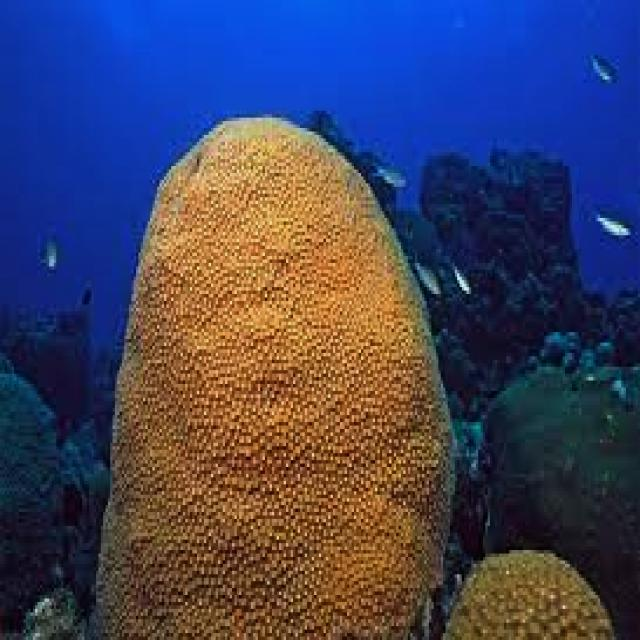Coral: (94, 115, 456, 640), (445, 546, 618, 640)
